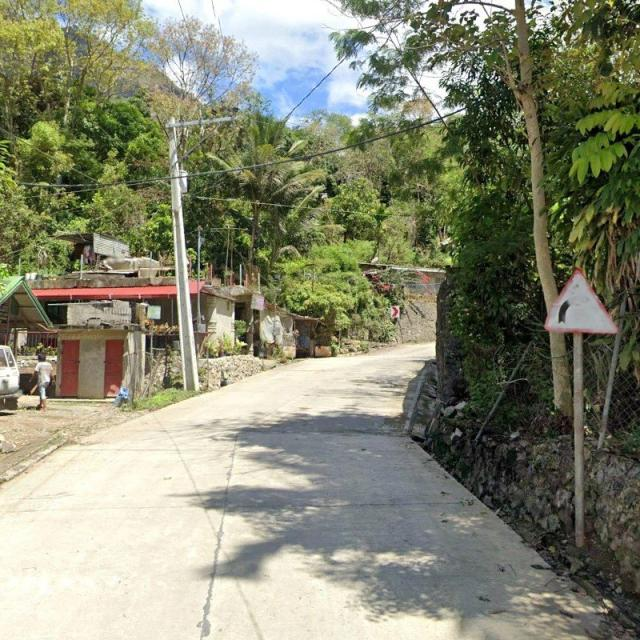warn_right_curve: (542, 267, 618, 333)
